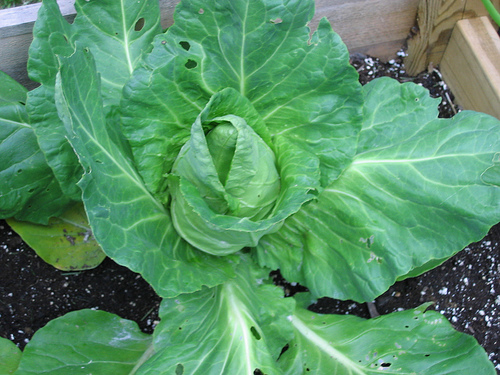cabbage: (23, 0, 499, 374)
